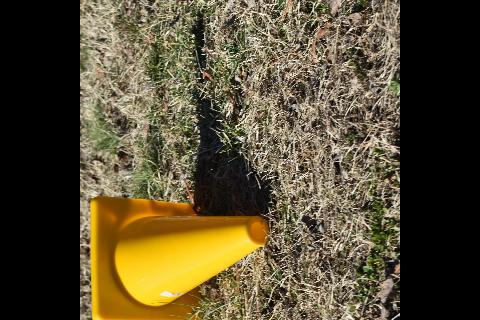cone: (90, 195, 270, 320)
